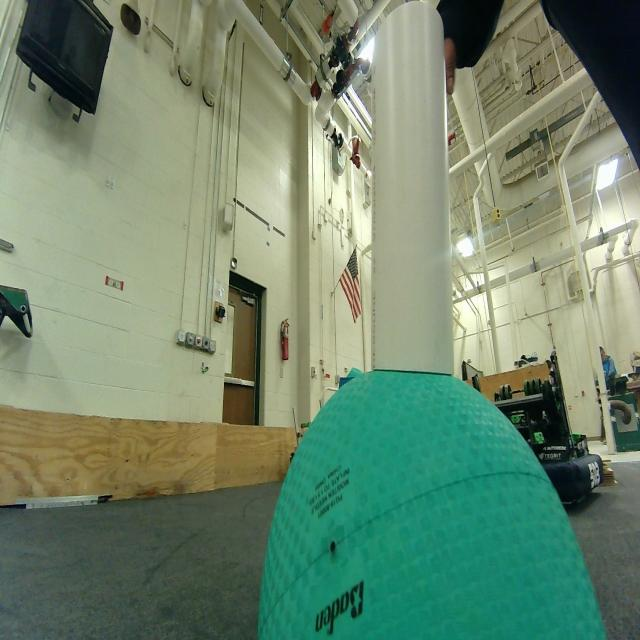algae: (258, 370, 606, 639)
coral: (372, 2, 454, 374)
